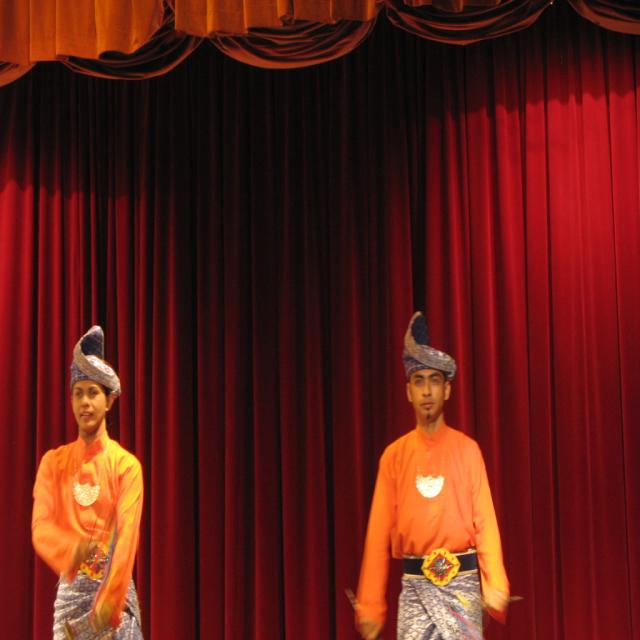no_helmet: (46, 322, 152, 386), (392, 296, 456, 390)
